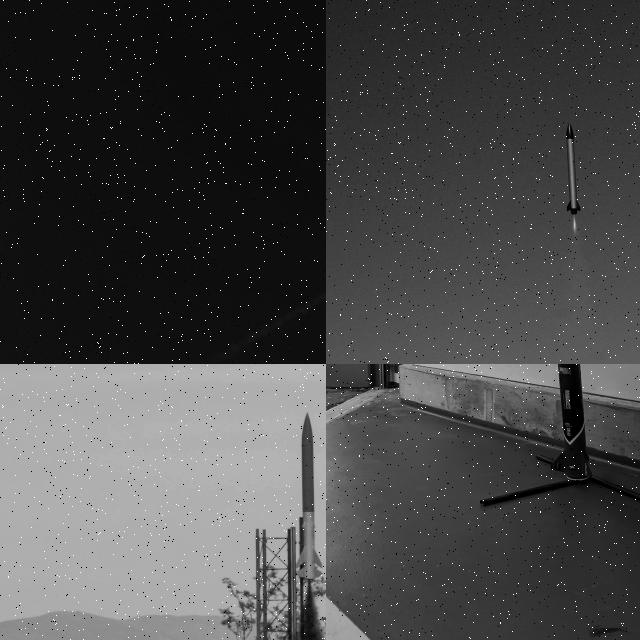Rocket: (294, 412, 324, 581), (550, 364, 593, 481), (564, 122, 583, 215)
